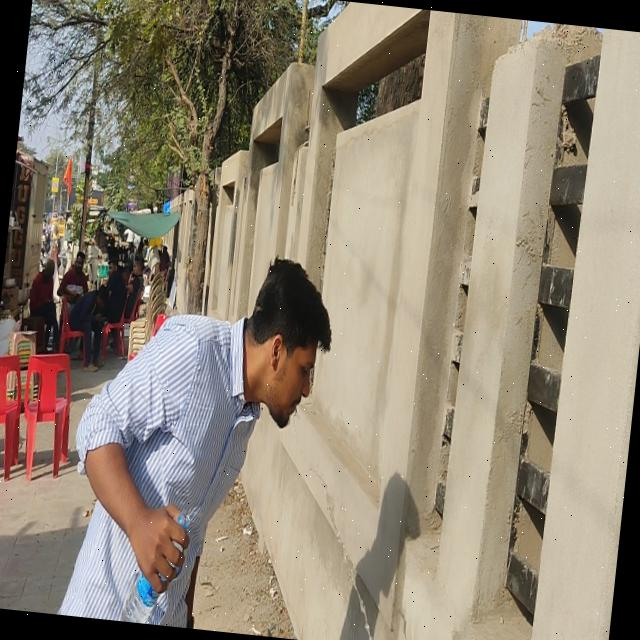spit: (250, 264, 394, 640)
